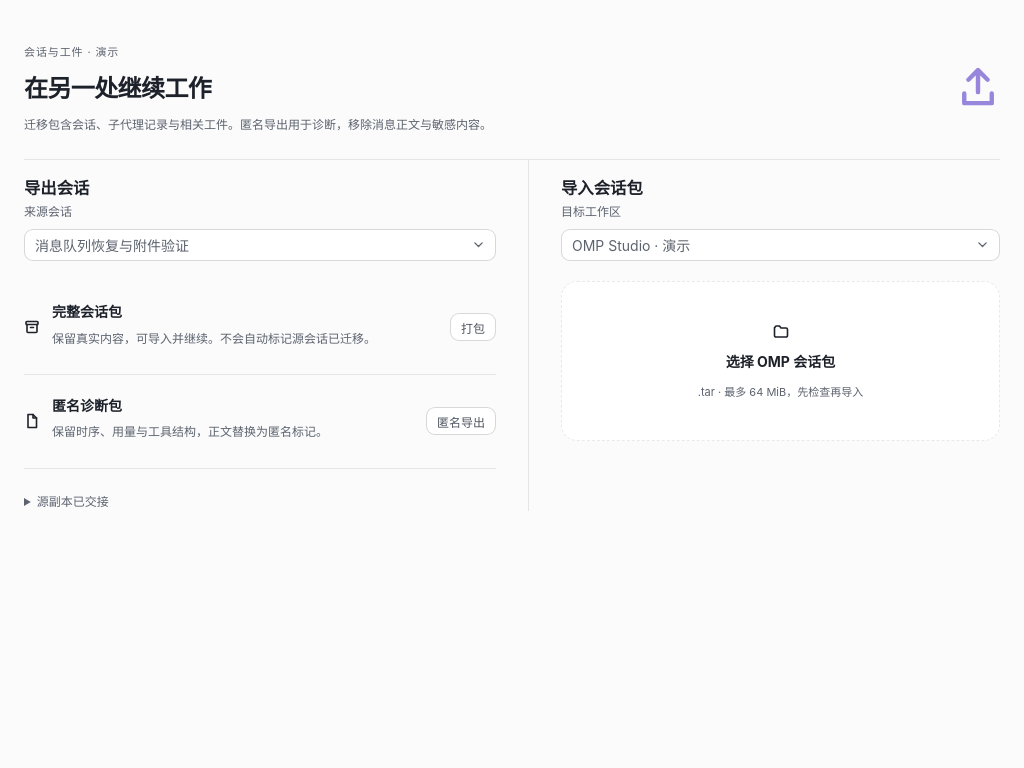
Test: requires archive inspection before import and shows preservation of the local copy
Check: the button "确认导入" is not shown
Click the button "选择 OMP 会话包 .tar · 最多 64 MiB，先检查再导入". click: (780, 361)
box: [561,281,1000,441]
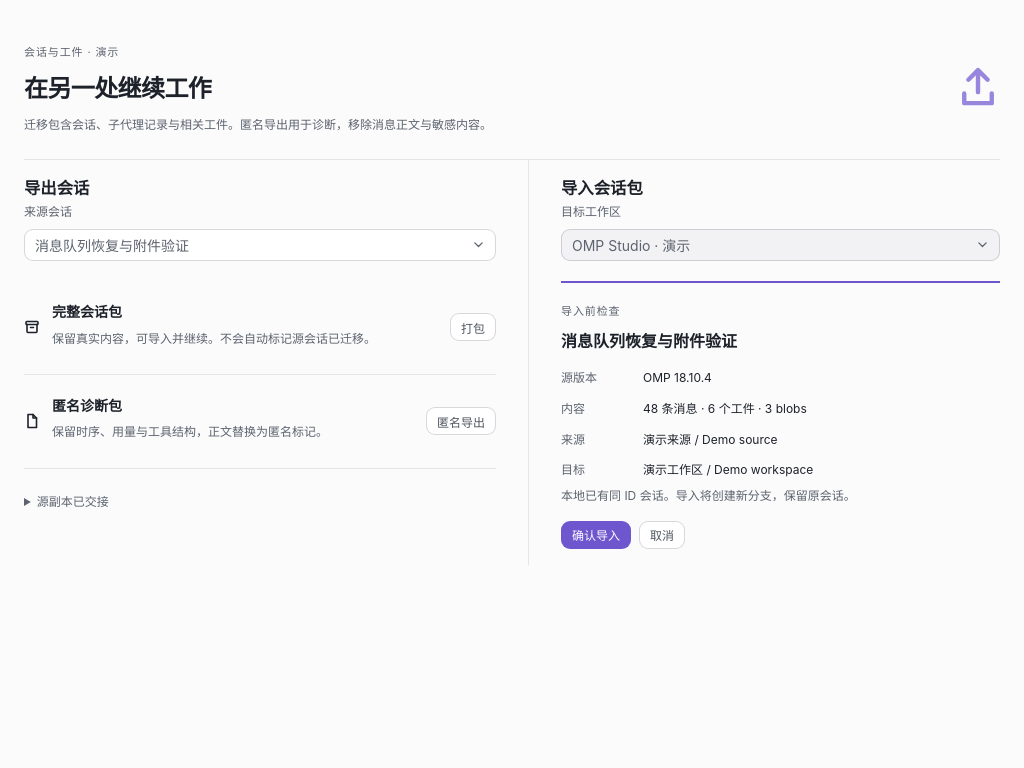
Check: the text "本地已有同 ID 会话。导入将创建新分支，保留原会话。" is shown, box [561,488,856,503]
Click the button "确认导入". click: (596, 535)
box: [561,521,631,549]
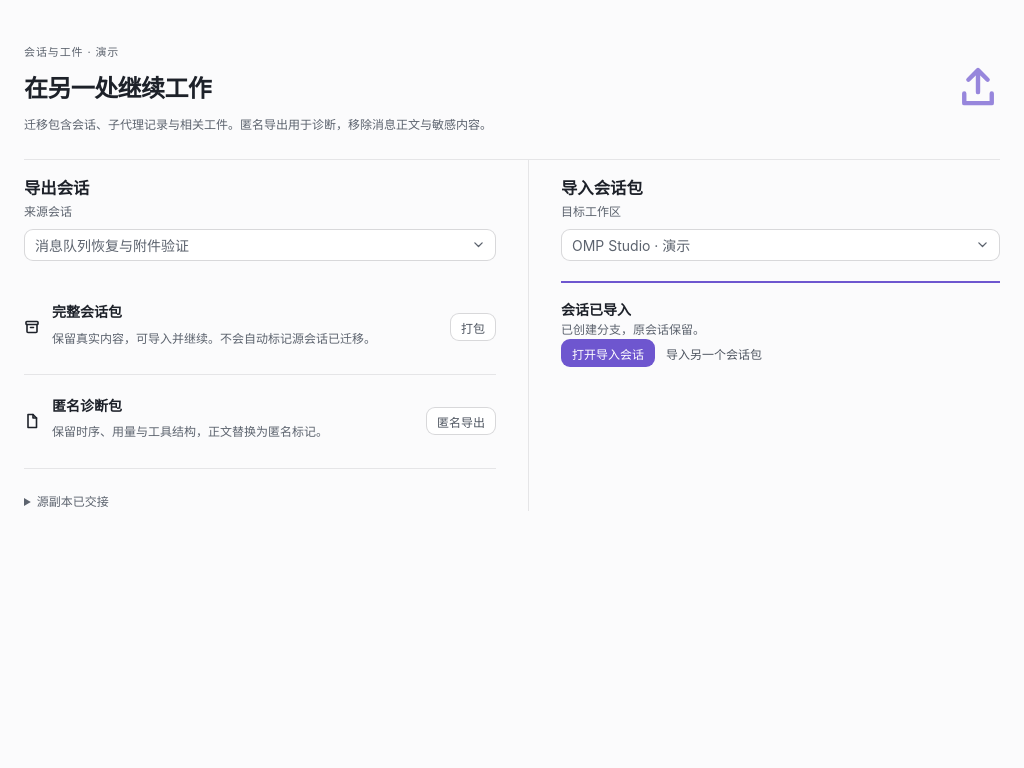
Check: the text "已创建分支，原会话保留。" is shown, box [561,322,705,336]
